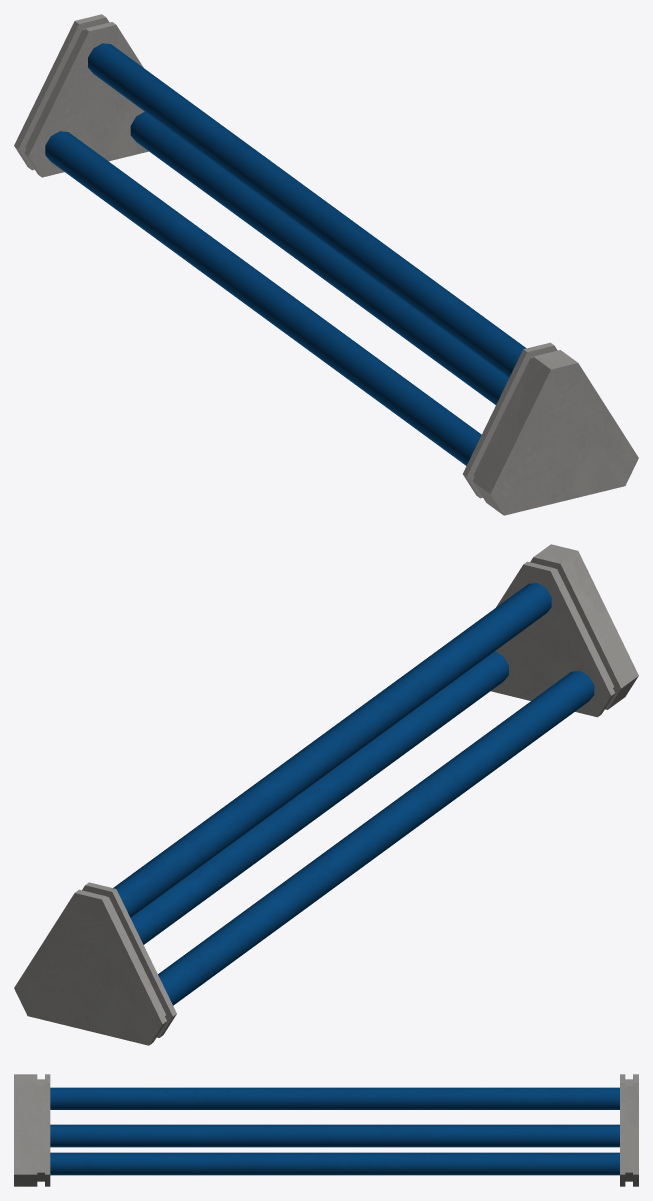
File: Scifi Light Rod 3.FBX
3 renders of one model, top to bottom at view 1: azimuth 30°, elevation 25°; view 2: azimuth 150°, elevation 25°; view 3: azimuth 270°, elevation 25°, orthographic. The views are drawn at different scales.
Visible parts, largest first — view 1: Light Props04; view 2: Light Props04; view 3: Light Props04.
Boxes of the visible parts, x1,y1,x2,y2 form: Light Props04: (14, 14, 638, 515); Light Props04: (14, 544, 638, 1045); Light Props04: (14, 1074, 638, 1186).
Bounding box in the file's own units: 19.77 × 17.12 × 110.
